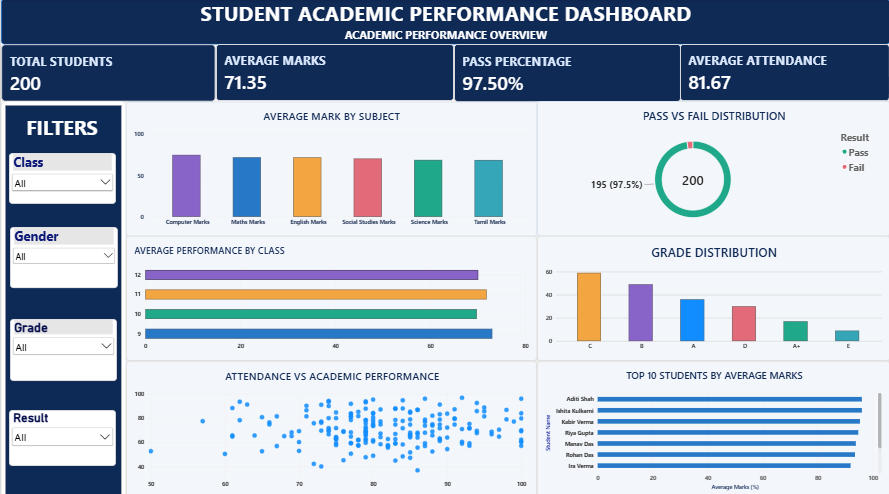

The dashboard page shown, as its layout file describes it:
{"tool":"powerbi","page":{"name":"Overview","canvas":[1920,1080],"ordinal":0},"visuals":[{"type":"shape","title":"STUDENT ACADEMIC PERFORMANCE DASHBOARD","box":[0,0,1920,98.3],"z":0},{"type":"cardVisual","fields":{"Data":["Count(Student Data.Student ID)"]},"box":[0,97.2,464.4,125.3],"z":1000},{"type":"cardVisual","fields":{"Data":["Avg(Student Data.Average Marks %)"]},"box":[463.6,98.3,514,123.5],"z":2000},{"type":"cardVisual","fields":{"Data":["Student Data.Pass Percentage"]},"box":[977.5,97.5,490,125],"z":3000},{"type":"cardVisual","fields":{"Data":["Avg(Student Data.Attendance %)"]},"box":[1466.5,98.3,453.5,123.5],"z":4000},{"type":"clusteredColumnChart","title":"AVERAGE MARK BY SUBJECT","fields":{"Category":["Student Data.Subject"],"Y":["Avg(Student Data.Marks)"]},"box":[270,222.5,887.5,290],"z":5000},{"type":"donutChart","title":"PASS VS FAIL DISTRIBUTION","fields":{"Category":["Student Data.Result"],"Y":["Count(Student Data.Student ID)"]},"box":[1157.5,220,762.5,292.5],"z":6000},{"type":"clusteredColumnChart","title":" GRADE DISTRIBUTION","fields":{"Category":["Student Data.Grade"],"Y":["Count(Student Data.Student ID)"]},"box":[1157.5,512.5,762.5,270],"z":7000},{"type":"clusteredBarChart","title":"AVERAGE PERFORMANCE BY CLASS","fields":{"Category":["Student Data.Class"],"Y":["Avg(Student Data.Average Marks %)"]},"box":[270,512.5,887.5,270],"z":8000},{"type":"scatterChart","title":"ATTENDANCE VS ACADEMIC PERFORMANCE","fields":{"Category":["Student Data.Student ID"],"X":["Avg(Student Data.Attendance %)"],"Y":["Avg(Student Data.Average Marks %)"]},"box":[270,782.5,887.5,297.5],"z":9000},{"type":"clusteredBarChart","title":"TOP 10 STUDENTS BY AVERAGE MARKS","fields":{"Category":["Student Data.Student Name"],"Y":["Avg(Student Data.Average Marks %)"]},"box":[1157.5,782.5,762.5,297.5],"z":10000},{"type":"shape","box":[0,220,270,860],"z":11000},{"type":"slicer","fields":{"Values":["Student Data.Class"]},"box":[17.3,332.6,231.1,110.2],"z":12000},{"type":"slicer","fields":{"Values":["Student Data.Gender"]},"box":[19.4,492.5,233.3,131.8],"z":13000},{"type":"slicer","fields":{"Values":["Student Data.Grade"]},"box":[19.4,691.2,231.1,133.9],"z":14000},{"type":"slicer","fields":{"Values":["Student Data.Result"]},"box":[17.3,887.8,231.1,121],"z":15000},{"type":"textbox","title":"FILTERS","box":[15.1,248.4,233.3,62.6],"z":16000}]}

Visuals, with their boxes in screenshot pixels (x1, y1, x2, y2), scaled from the page's 1920x1080 canvas onto the 889x494 screenshot:
"STUDENT ACADEMIC PERFORMANCE DASHBOARD" shape: bbox=[0, 0, 888, 45]
cardVisual - Count(Student Data.Student ID): bbox=[0, 44, 215, 102]
cardVisual - Avg(Student Data.Average Marks %): bbox=[215, 45, 453, 101]
cardVisual - Student Data.Pass Percentage: bbox=[453, 45, 679, 102]
cardVisual - Avg(Student Data.Attendance %): bbox=[679, 45, 888, 101]
"AVERAGE MARK BY SUBJECT" clusteredColumnChart: bbox=[125, 102, 536, 234]
"PASS VS FAIL DISTRIBUTION" donutChart: bbox=[536, 101, 888, 234]
" GRADE DISTRIBUTION" clusteredColumnChart: bbox=[536, 234, 888, 358]
"AVERAGE PERFORMANCE BY CLASS" clusteredBarChart: bbox=[125, 234, 536, 358]
"ATTENDANCE VS ACADEMIC PERFORMANCE" scatterChart: bbox=[125, 358, 536, 493]
"TOP 10 STUDENTS BY AVERAGE MARKS" clusteredBarChart: bbox=[536, 358, 888, 493]
shape: bbox=[0, 101, 125, 493]
slicer - Student Data.Class: bbox=[8, 152, 115, 203]
slicer - Student Data.Gender: bbox=[9, 225, 117, 286]
slicer - Student Data.Grade: bbox=[9, 316, 116, 377]
slicer - Student Data.Result: bbox=[8, 406, 115, 461]
"FILTERS" textbox: bbox=[7, 114, 115, 142]
